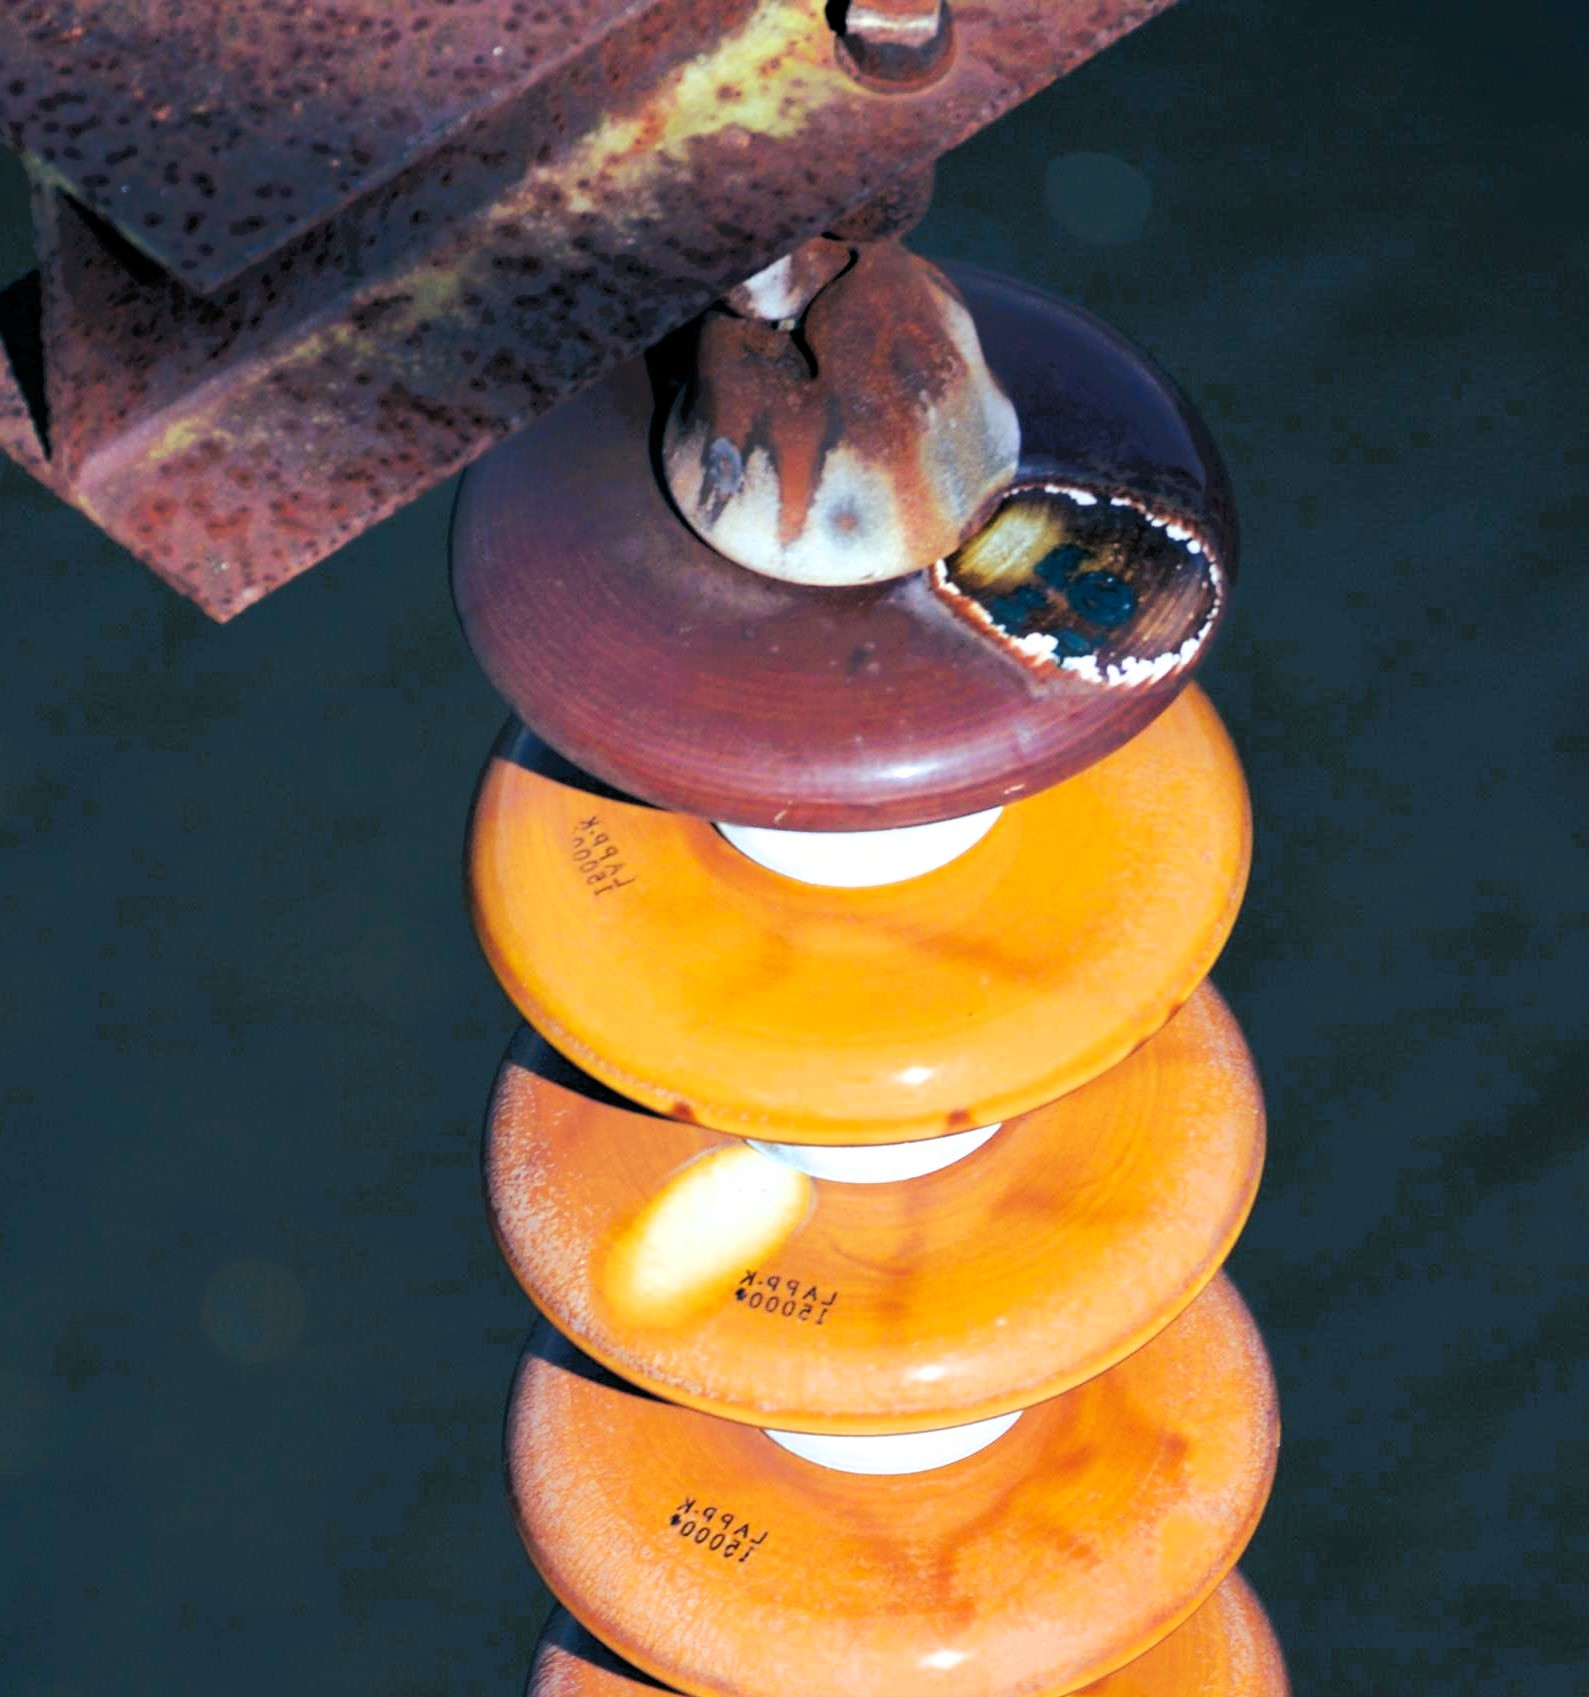Insulator flashover: (438, 232, 1240, 843), (450, 984, 1281, 1439)
